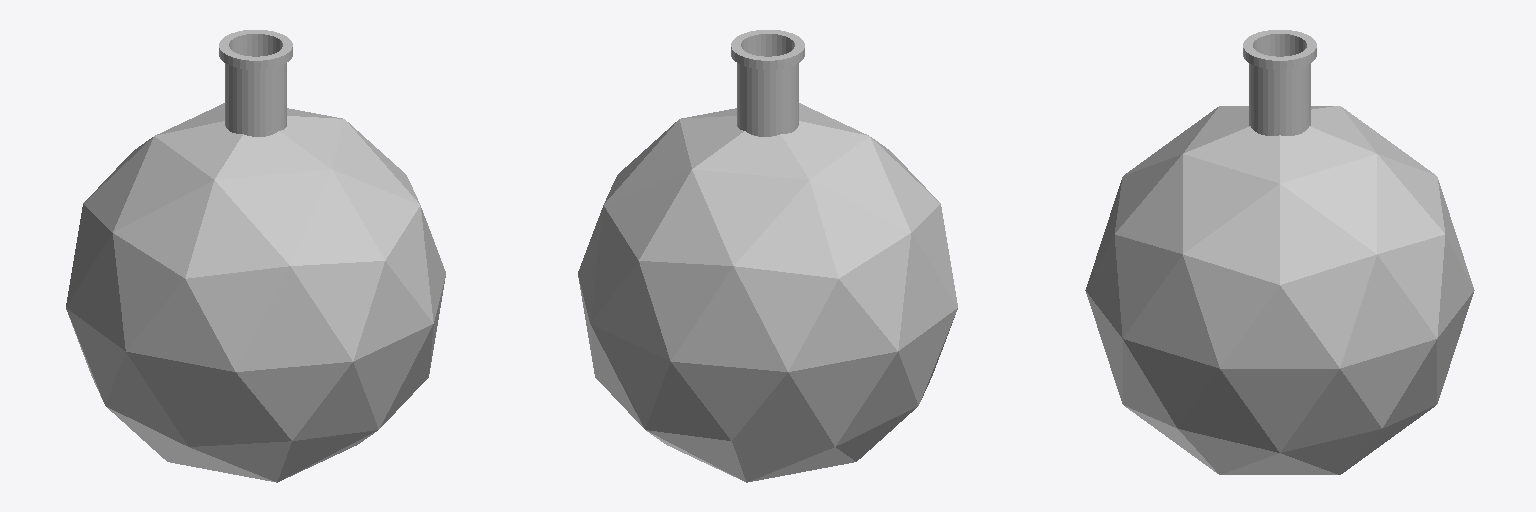
The model's file is Health_Bottle.obj.
3 renders of one model, left to right at view 1: azimuth 30°, elevation 25°; view 2: azimuth 150°, elevation 25°; view 3: azimuth 270°, elevation 25°, orthographic.
Visible parts, largest first — view 1: Bottle_Icosphere, Bottle_Head_Cylinder.003; view 2: Bottle_Icosphere, Bottle_Head_Cylinder.003; view 3: Bottle_Icosphere, Bottle_Head_Cylinder.003.
Boxes of the visible parts, box(x1,y1,x2,y2) form: Bottle_Icosphere: box(66, 103, 445, 482); Bottle_Head_Cylinder.003: box(219, 30, 292, 136); Bottle_Icosphere: box(578, 103, 957, 482); Bottle_Head_Cylinder.003: box(731, 30, 804, 136); Bottle_Icosphere: box(1085, 106, 1474, 474); Bottle_Head_Cylinder.003: box(1243, 30, 1316, 135).
Size of the model in its own units: 0.1158 by 0.1455 by 0.1217.